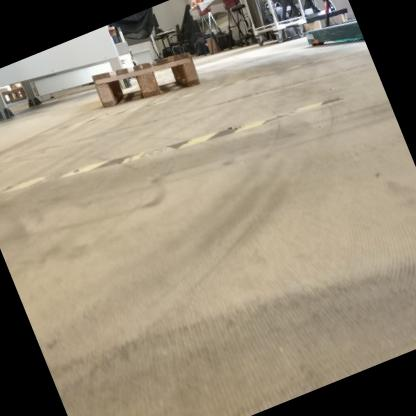BoxFace: (88, 49, 207, 115), (0, 85, 26, 106)
